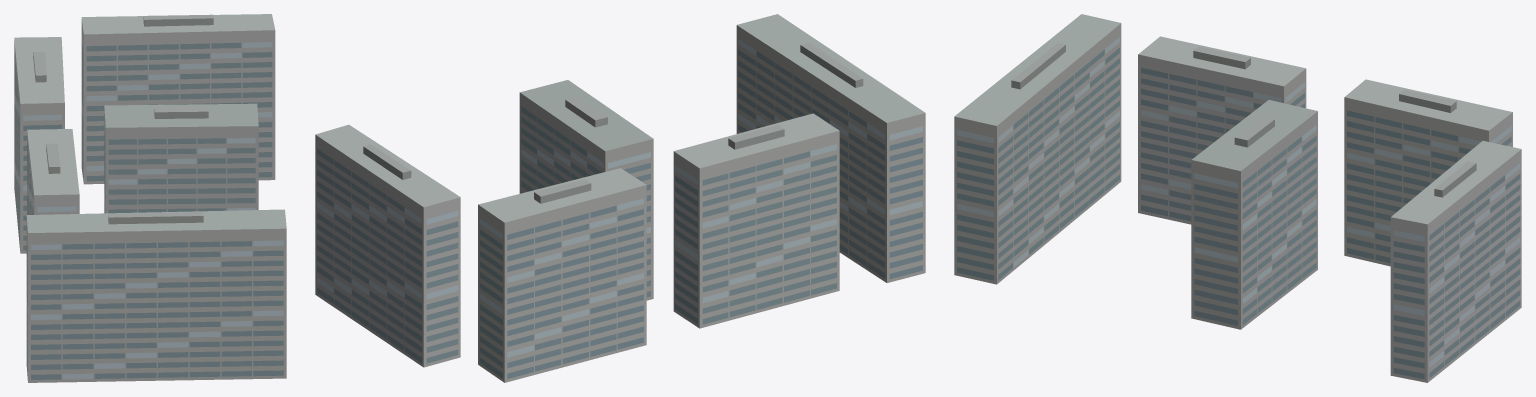
Rendered from apt-a15703306.glb.
The picture shows the model from 3 angles, left to right: view 1: azimuth 30°, elevation 25°; view 2: azimuth 150°, elevation 25°; view 3: azimuth 270°, elevation 25°; orthographic projection. The views are drawn at different scales.
Visible parts, largest first — view 1: apt-a15703306; view 2: apt-a15703306; view 3: apt-a15703306.
Part boxes in pixels (x1,y1,x2,y2): apt-a15703306: [14, 14, 286, 382]; apt-a15703306: [315, 14, 925, 382]; apt-a15703306: [954, 14, 1521, 382].
Size of the model in its own units: 130 by 47.81 by 148.
